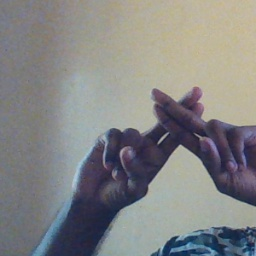F: (102, 74, 253, 182)
